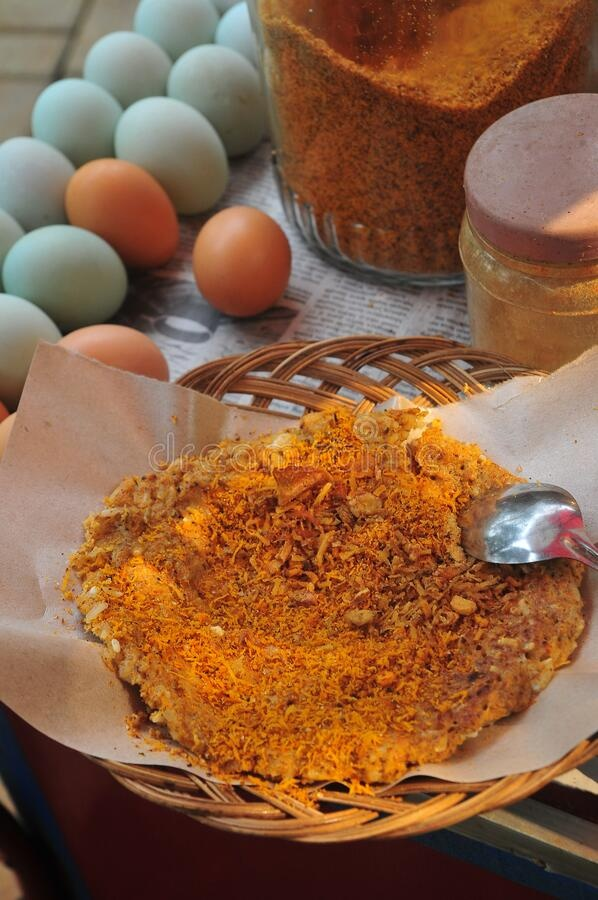kerak_telor: (59, 394, 590, 775)
